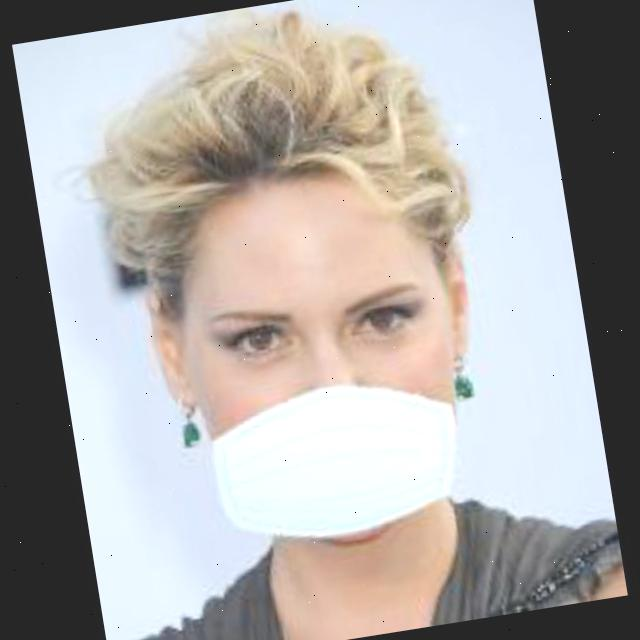suspicion: (98, 41, 492, 584)
